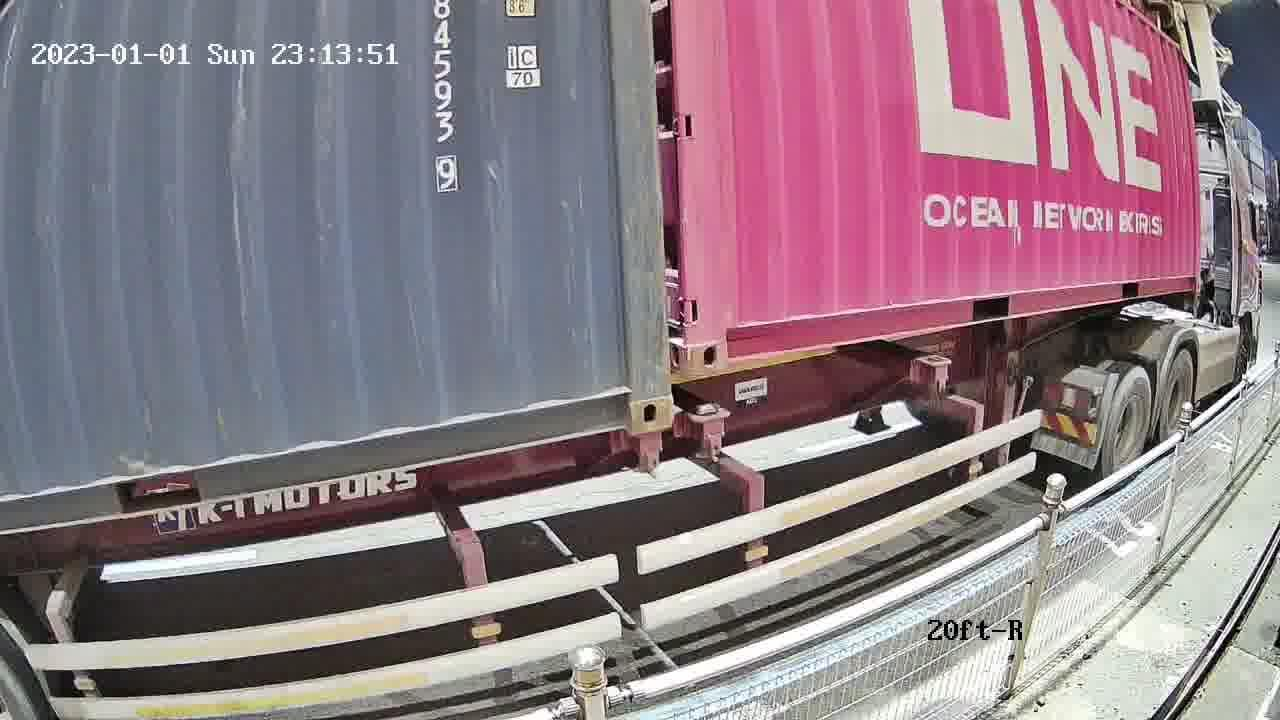Cone: (685, 402, 727, 465), (630, 432, 666, 477)
Hole_L: (685, 284, 762, 380)
Hole_R: (584, 350, 675, 433)
Tire: (1105, 372, 1151, 482), (1159, 354, 1194, 444)
